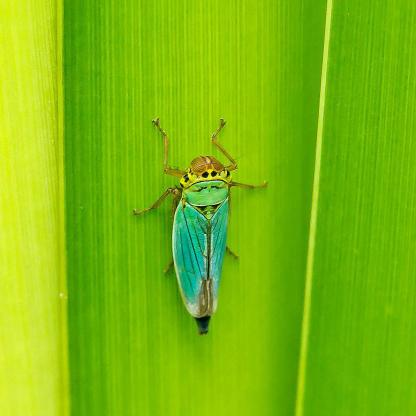Green-Leafhopper: (140, 116, 274, 338)
